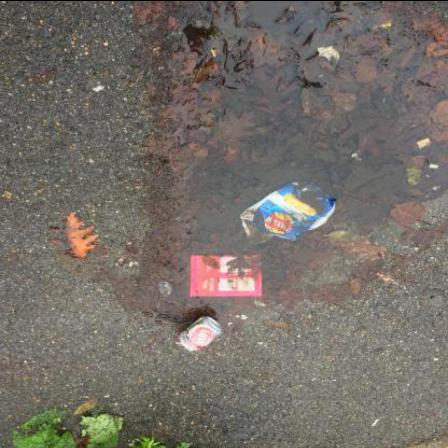Can: (179, 316, 223, 352)
Plastic bag - wrapper: (240, 182, 338, 246), (191, 255, 263, 297)
